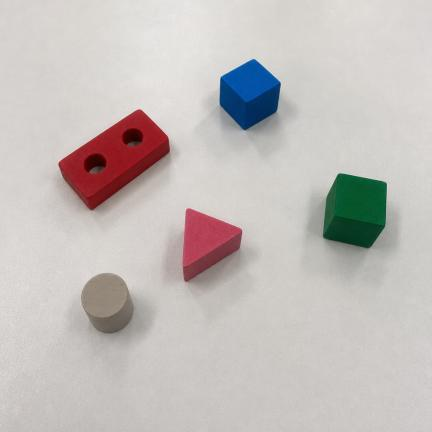BuildingBlocks: (60, 110, 169, 209), (324, 174, 386, 247), (183, 209, 242, 280), (220, 60, 280, 129), (81, 273, 133, 332)
